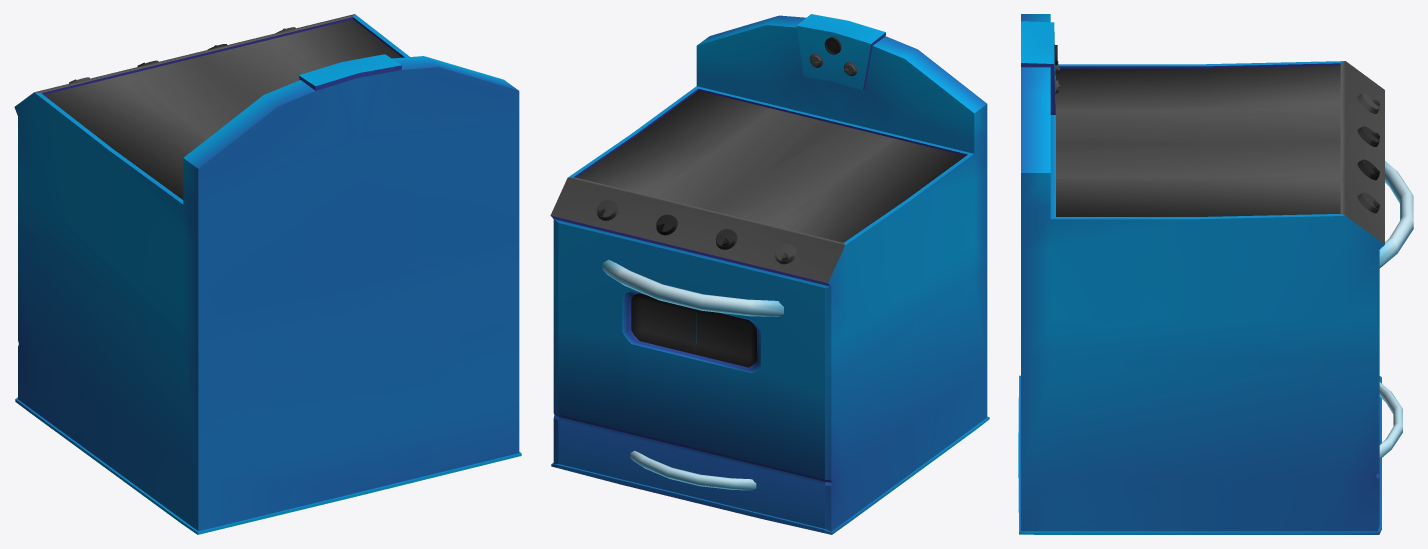
The model's file is stove.FBX.
3 views of the same model, side by side, from view 1: azimuth 30°, elevation 25°; view 2: azimuth 150°, elevation 25°; view 3: azimuth 270°, elevation 25° (orthographic). The views are drawn at different scales.
Visible parts, largest first — view 1: stove; view 2: stove; view 3: stove.
Part boxes in pixels (<box>): stove: <box>14,14,521,534</box>; stove: <box>550,14,989,534</box>; stove: <box>1018,14,1413,534</box>.
Size of the model in its own units: 72.85 by 90.54 by 77.54.
Materials: 1 (1 with a texture image).
